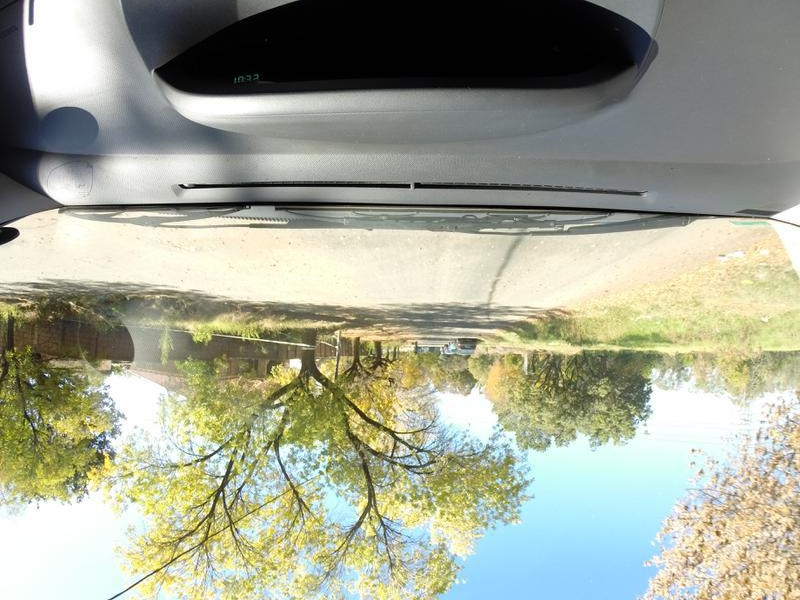pothole: (165, 235, 238, 251)
